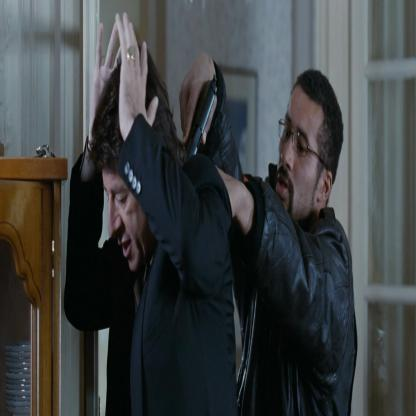gun: (184, 81, 223, 168)
